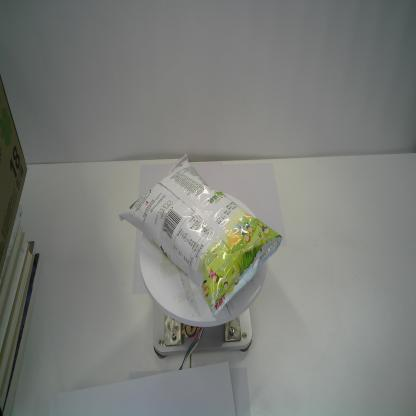Puffed Food: (118, 152, 284, 317)
